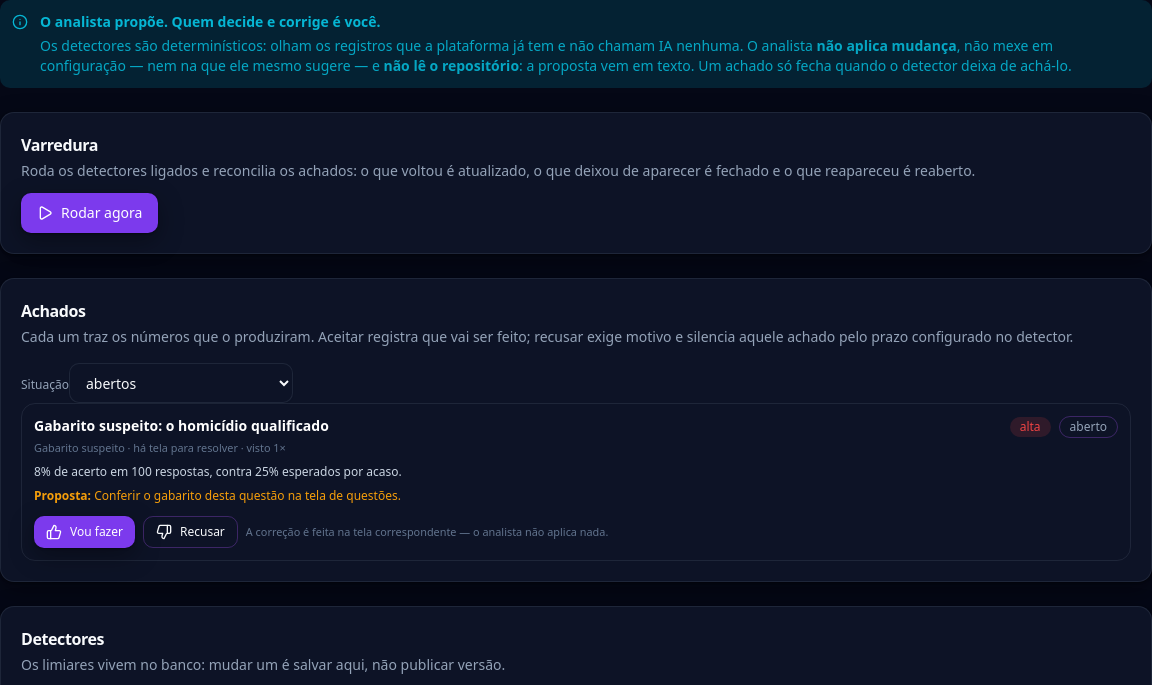
Test: ImprovementsSection › isolamento só por código não pode parecer isolamento de banco
The image size is (1152, 685).
Click the button "Rodar agora" at (90, 213), box top-left (21, 193), bottom-right (158, 233)
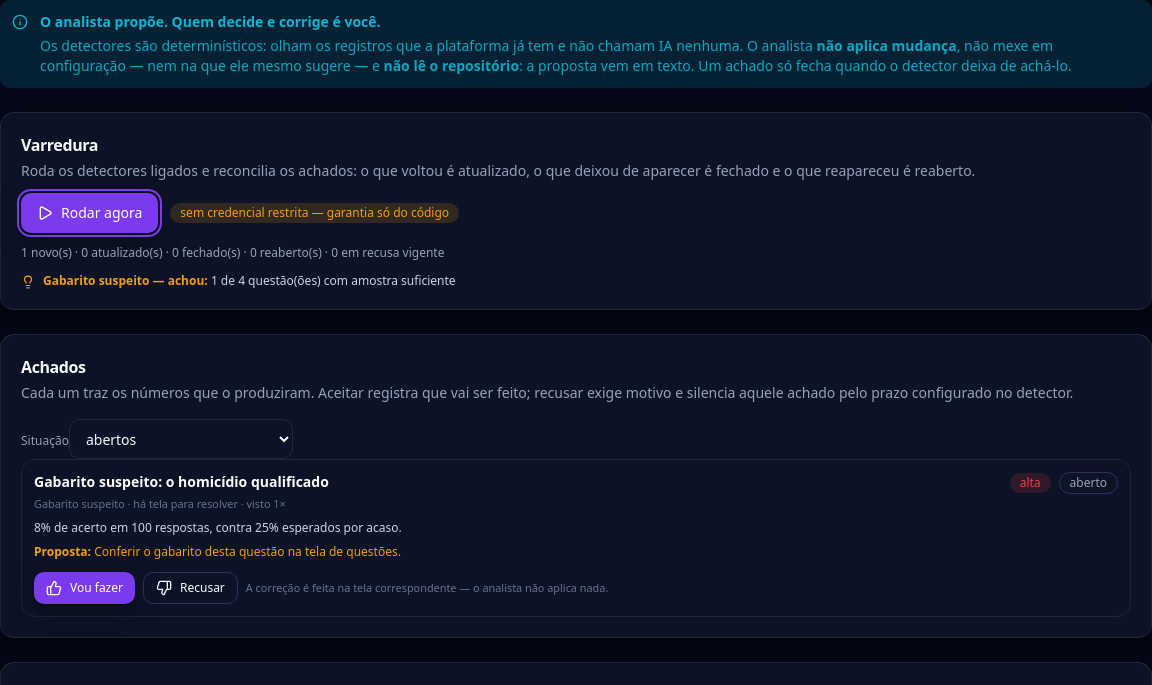
Expected: the text "sem credencial restrita — garantia só do código" is shown, top-left (170, 203), bottom-right (459, 223)
